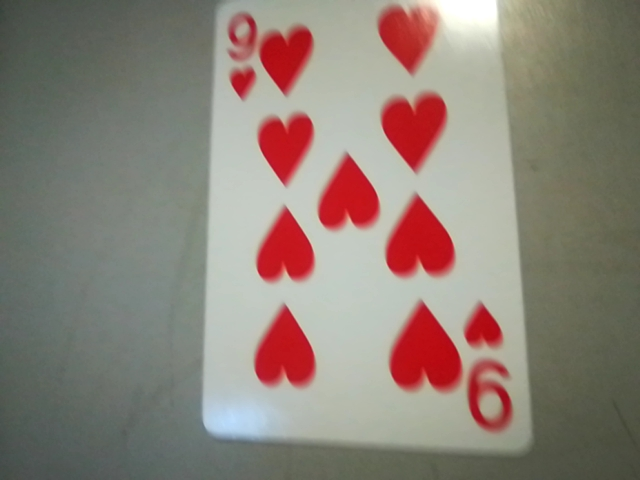hx 9: (457, 295, 526, 448)
